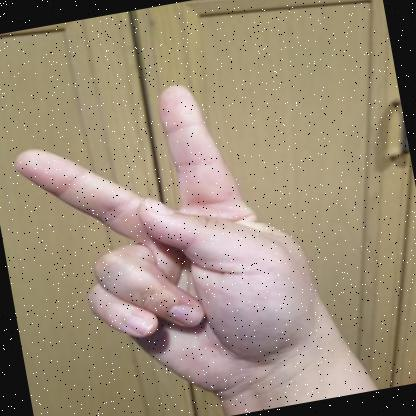K: (14, 84, 347, 395)
